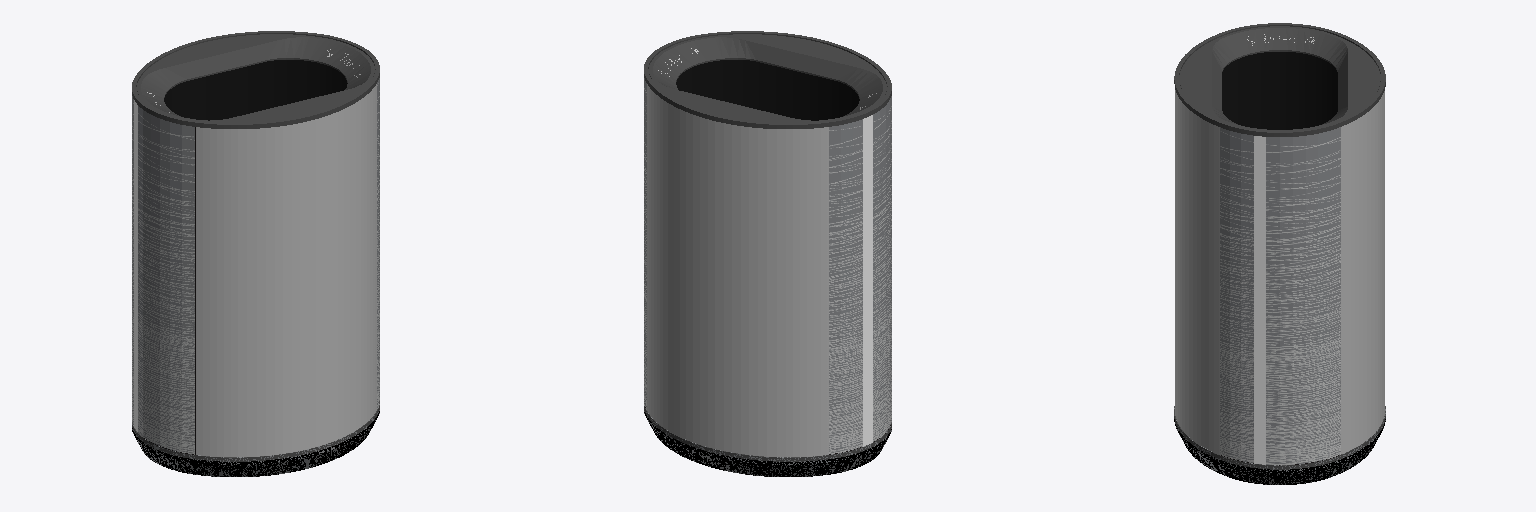
The picture shows the model from 3 angles: view 1: azimuth 30°, elevation 25°; view 2: azimuth 150°, elevation 25°; view 3: azimuth 270°, elevation 25°; orthographic projection.
Visible parts, largest first — view 1: mesh2_mesh2-geometry, mesh27_mesh27-geometry, mesh21_mesh21-geometry, mesh25_mesh25-geometry, mesh3_mesh3-geometry, mesh22_mesh22-geometry, mesh24_mesh24-geometry, mesh26_mesh26-geometry, mesh23_mesh23-geometry; view 2: mesh1_mesh1-geometry, mesh27_mesh27-geometry, mesh3_mesh3-geometry, mesh24_mesh24-geometry, mesh21_mesh21-geometry, mesh23_mesh23-geometry, mesh25_mesh25-geometry, mesh26_mesh26-geometry, mesh22_mesh22-geometry; view 3: mesh27_mesh27-geometry, mesh2_mesh2-geometry, mesh1_mesh1-geometry, mesh3_mesh3-geometry, mesh21_mesh21-geometry, mesh24_mesh24-geometry, mesh25_mesh25-geometry, mesh22_mesh22-geometry, mesh23_mesh23-geometry, mesh26_mesh26-geometry.
Boxes of the visible parts, <box> form: mesh2_mesh2-geometry: <box>196,84,376,456</box>; mesh27_mesh27-geometry: <box>132,78,379,454</box>; mesh21_mesh21-geometry: <box>143,31,368,128</box>; mesh25_mesh25-geometry: <box>206,60,347,120</box>; mesh3_mesh3-geometry: <box>132,39,379,120</box>; mesh22_mesh22-geometry: <box>143,442,308,476</box>; mesh24_mesh24-geometry: <box>164,77,205,119</box>; mesh26_mesh26-geometry: <box>132,401,379,461</box>; mesh23_mesh23-geometry: <box>132,411,379,468</box>; mesh1_mesh1-geometry: <box>647,84,828,456</box>; mesh27_mesh27-geometry: <box>644,78,891,454</box>; mesh3_mesh3-geometry: <box>655,31,879,128</box>; mesh24_mesh24-geometry: <box>676,60,817,120</box>; mesh21_mesh21-geometry: <box>644,40,891,120</box>; mesh23_mesh23-geometry: <box>715,442,880,476</box>; mesh25_mesh25-geometry: <box>818,77,859,120</box>; mesh26_mesh26-geometry: <box>644,405,891,461</box>; mesh22_mesh22-geometry: <box>644,411,891,468</box>; mesh27_mesh27-geometry: <box>1220,127,1340,465</box>; mesh2_mesh2-geometry: <box>1175,90,1219,454</box>; mesh1_mesh1-geometry: <box>1341,91,1384,453</box>; mesh3_mesh3-geometry: <box>1174,23,1385,136</box>; mesh21_mesh21-geometry: <box>1174,23,1385,136</box>; mesh24_mesh24-geometry: <box>1280,52,1337,129</box>; mesh25_mesh25-geometry: <box>1222,52,1279,129</box>; mesh22_mesh22-geometry: <box>1280,419,1385,484</box>; mesh23_mesh23-geometry: <box>1174,419,1279,484</box>; mesh26_mesh26-geometry: <box>1174,406,1385,469</box>.
Bounding box in the file's own units: 0.5035 × 0.7604 × 0.4101.
15 materials, 9 textured.